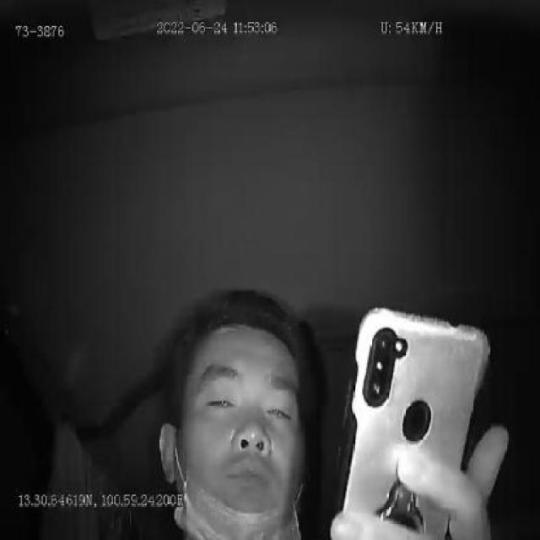phone: (329, 304, 492, 540)
